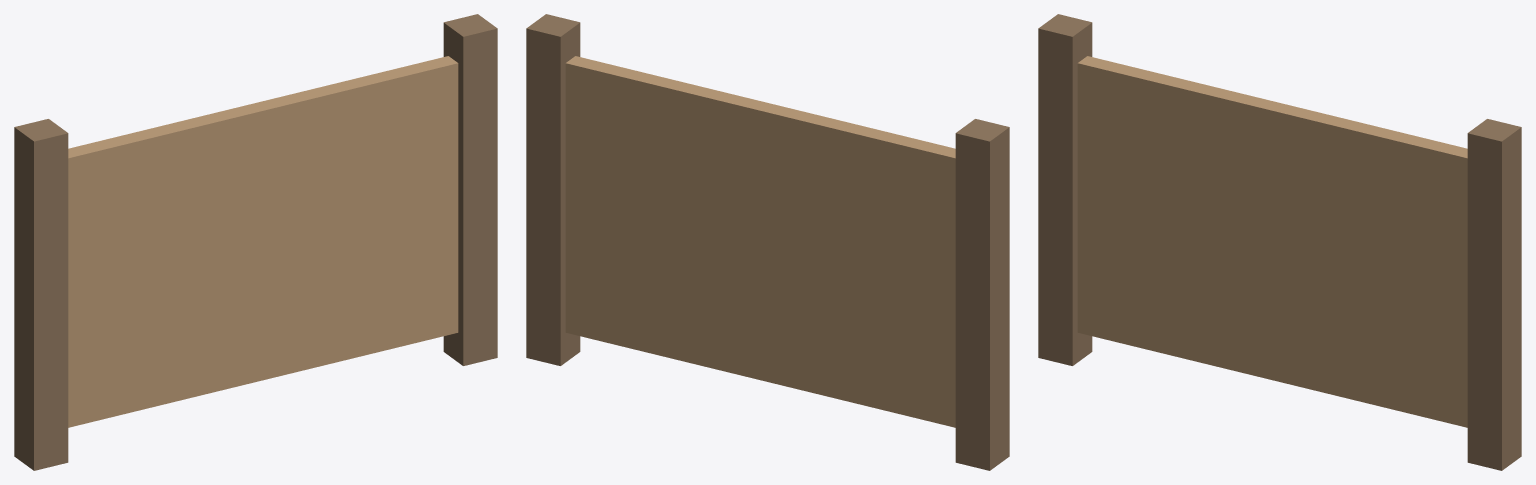
File: Prop_Live_AMF_Gate_V1.glb
3 renders of one model, left to right at view 1: azimuth 30°, elevation 25°; view 2: azimuth 150°, elevation 25°; view 3: azimuth 330°, elevation 25°, orthographic.
Visible parts, largest first — view 1: Prop_Live_AMF_Gate_V1; view 2: Prop_Live_AMF_Gate_V1; view 3: Prop_Live_AMF_Gate_V1.
Part boxes in pixels (box(x1,y1,x2,y2)): Prop_Live_AMF_Gate_V1: box(14, 14, 497, 470); Prop_Live_AMF_Gate_V1: box(526, 14, 1009, 470); Prop_Live_AMF_Gate_V1: box(1038, 14, 1521, 470).
Size of the model in its own units: 1.62 by 1.1 by 0.12.
